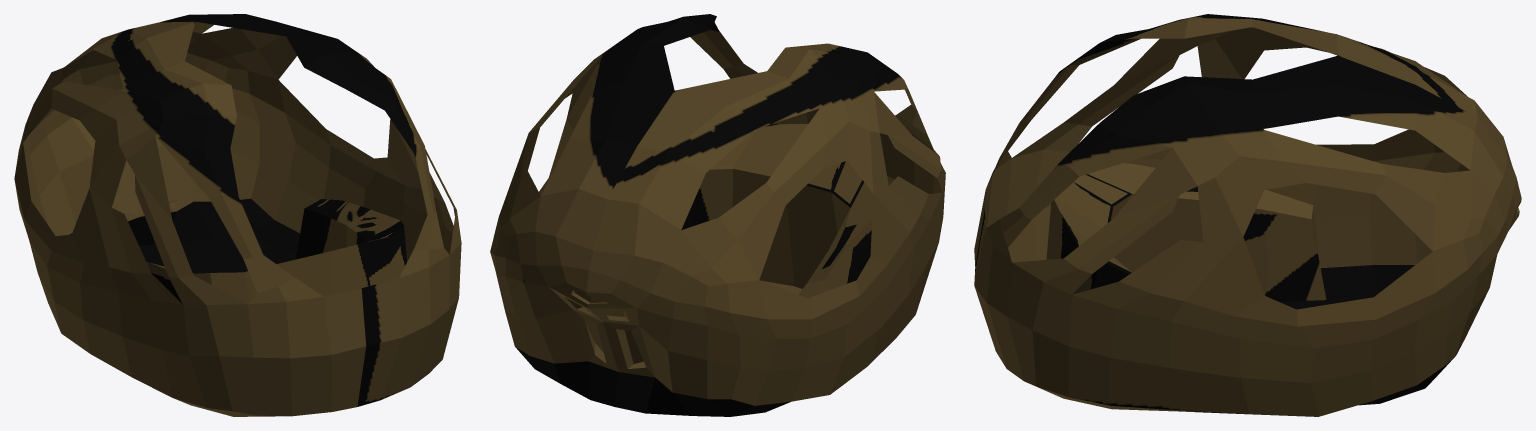
File: cockpitBeta V2.1.fbx
The picture shows the model from 3 angles, left to right: view 1: azimuth 30°, elevation 25°; view 2: azimuth 150°, elevation 25°; view 3: azimuth 270°, elevation 25°; orthographic projection. The views are drawn at different scales.
Visible parts, largest first — view 1: cockpit; view 2: cockpit; view 3: cockpit.
Part boxes in pixels (x1,y1,x2,y2): cockpit: (14,14,461,416); cockpit: (490,14,945,416); cockpit: (974,14,1521,416).
Bounding box in the file's own units: 285 × 239 × 391.
